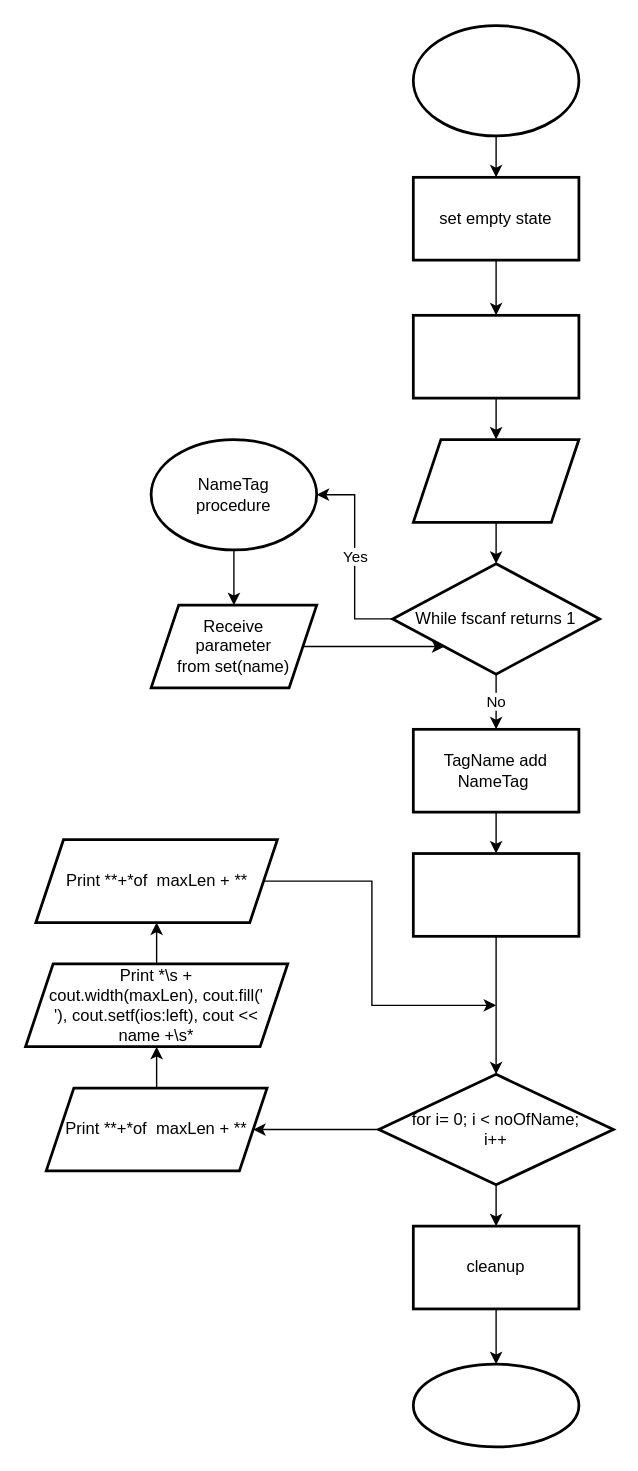
The diagram is 638 pixels wide and 1471 high, and some of its shapes have lost their labels. Each missing label, with the centre of its shape:
"Check string length if len > maxLen maxLen = len" belongs at (x=495, y=894).
"End" belongs at (x=495, y=1405).
"main() read file" belongs at (x=495, y=480).
"set by record num which is clean up and DMA to the member NameTag" belongs at (x=495, y=356).
"TagList" belongs at (x=495, y=80).
